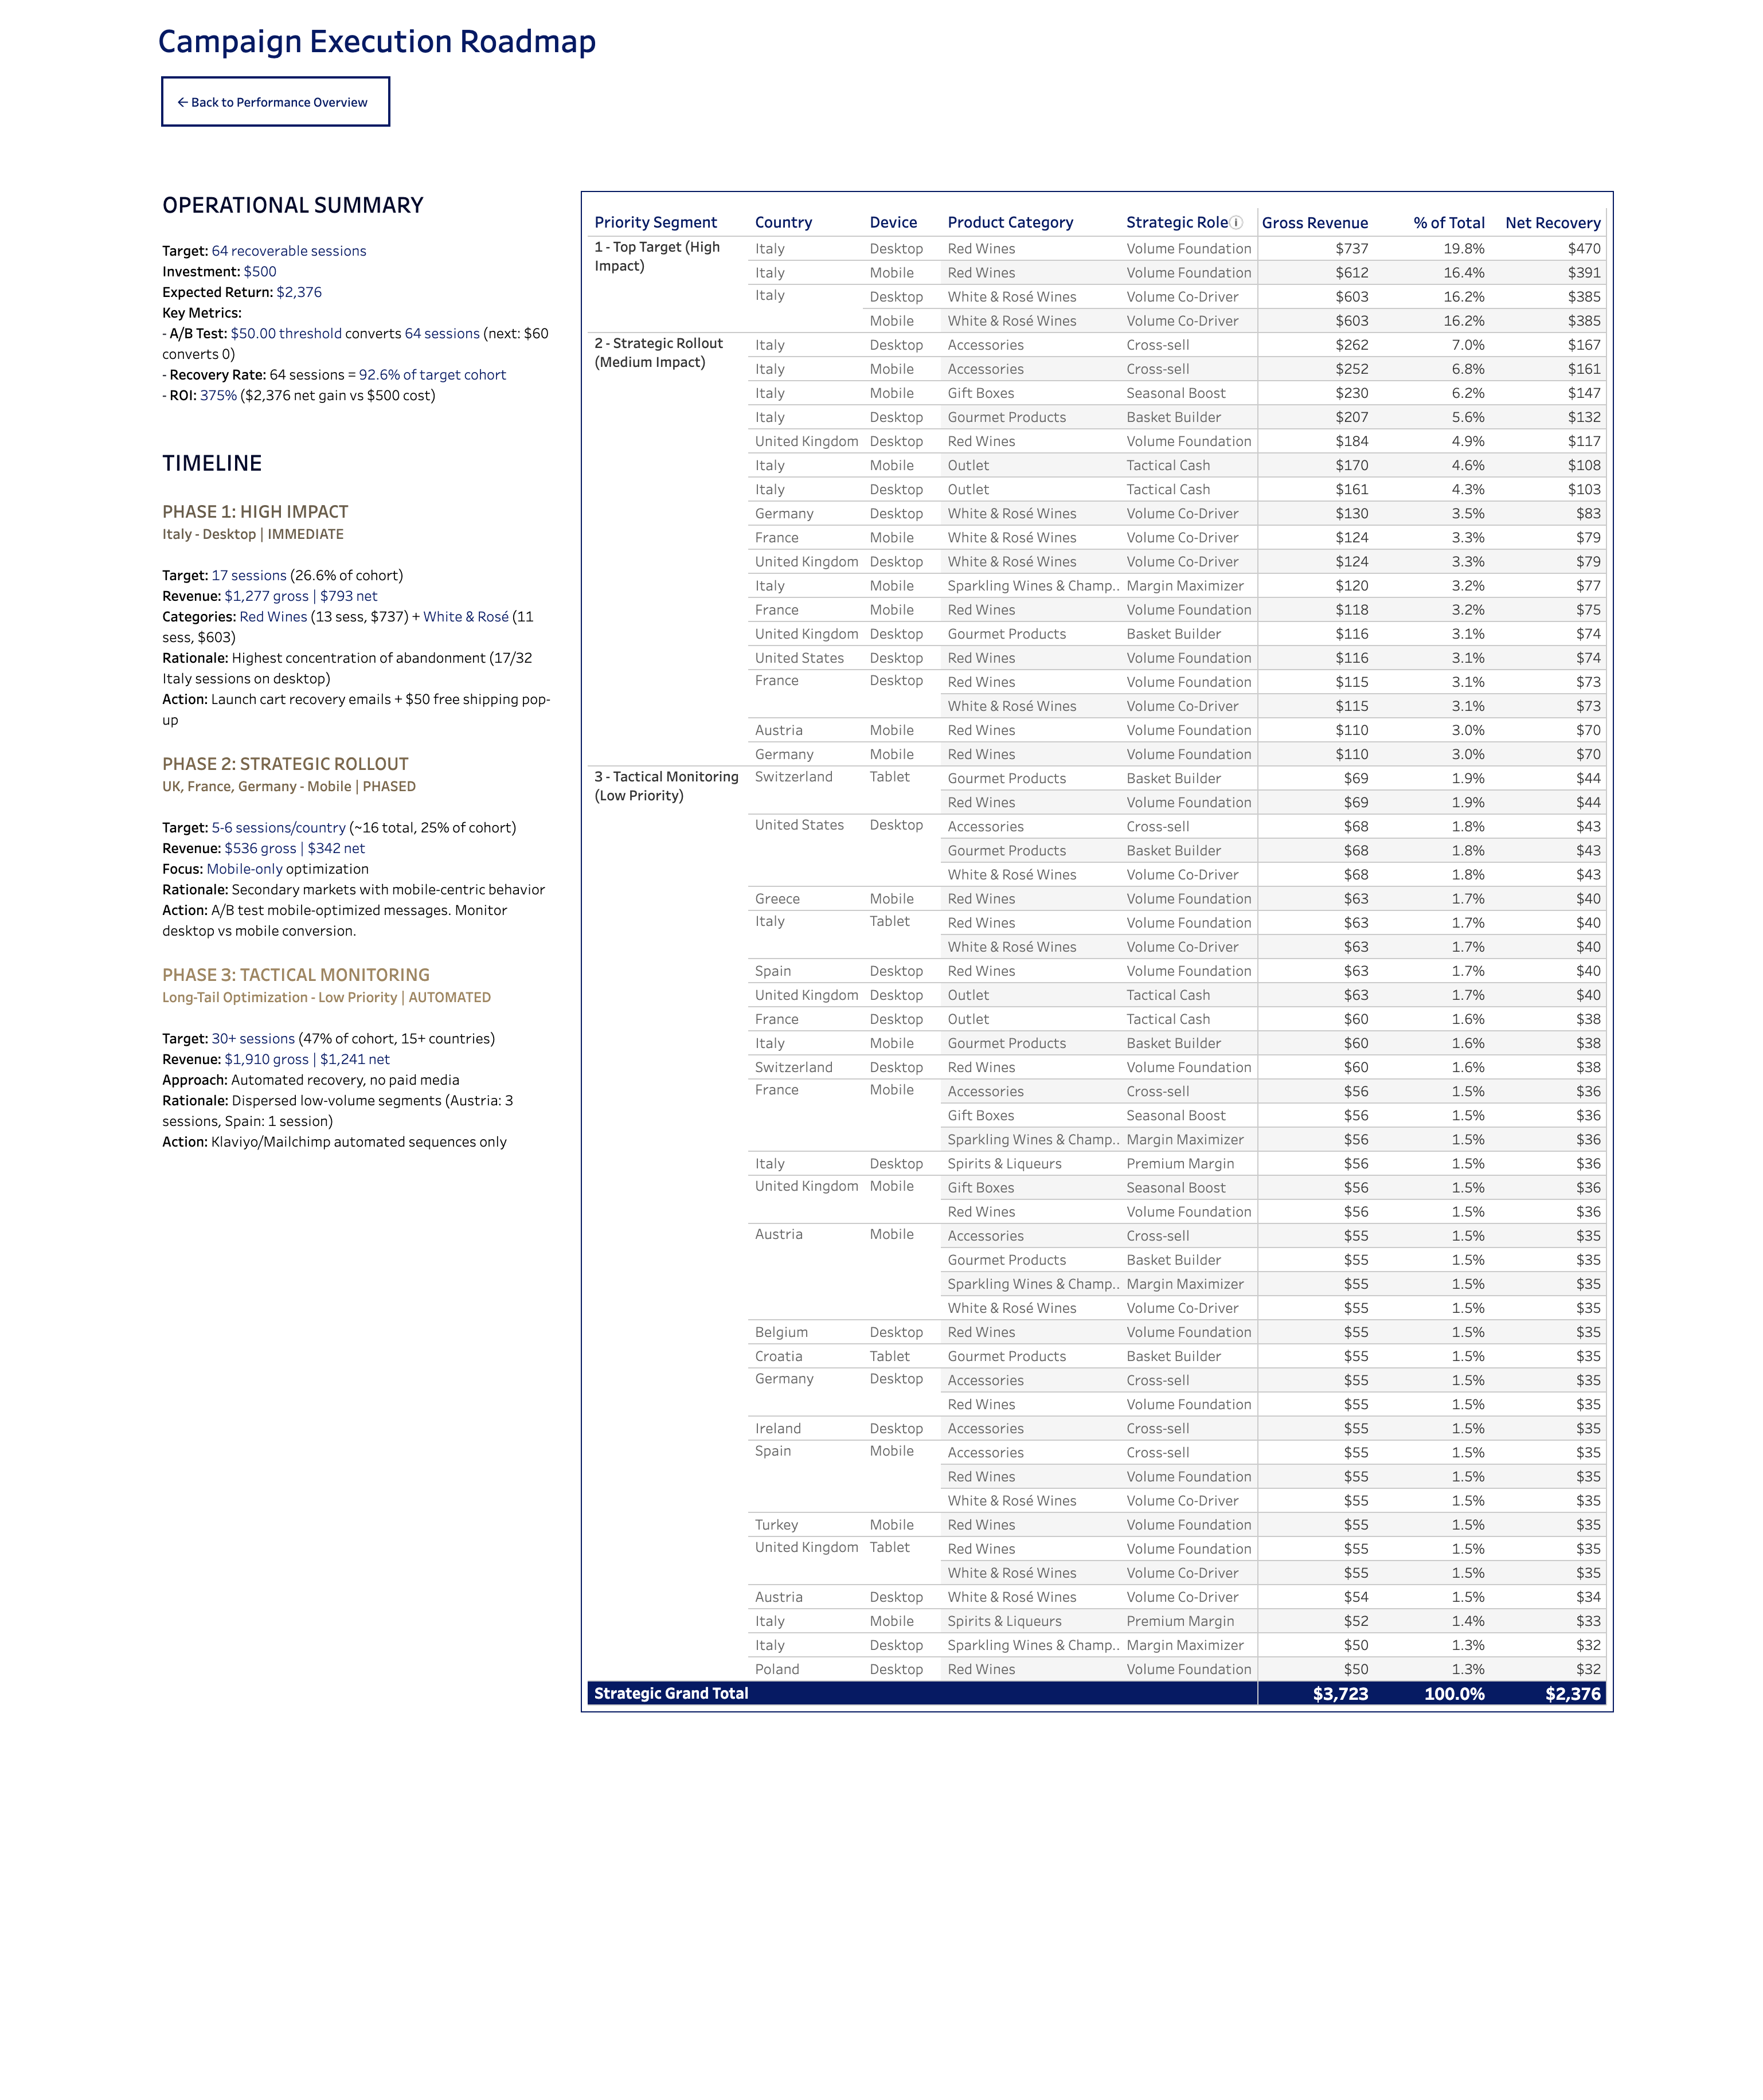

The dashboard page shown, as its layout file describes it:
{"tool":"tableau","page":{"name":"Dashboard_p2","canvas":[1300,1850],"ordinal":1},"visuals":[{"type":"text","box":[8,8,1284,147]},{"type":"worksheet","title":"Back Button","mark":"Automatic","box":[24,71,200,44]},{"type":"text","box":[8,155,375,1687]},{"type":"worksheet","title":"Table_Campaign Checklist","mark":"Automatic","rows":["Calculation_5896080947122200","Session Revenue (tannico_recoverable.csv) (copia)_5896081040","User Country (tannico_recoverable.csv) (copia)_1284119598256","Device Category (tannico_recoverable.csv) (copia)_1284119598","Tannico Category (copia)_1284119598718983","Strategic Role - Fixed (copia)_1284119598948360"],"box":[383,155,909,1347]},{"type":"worksheet","title":"Info_Strategic Role","mark":"Shape","box":[941,184,35,29]}]}

Visuals, with their boxes on the page's 1300x1850 design canvas (x1, y1, x2, y2). These are canvas units, not pixel positions in the 1763x2100 screenshot, which may show the page scaled, cropped or inside an application window:
text: bbox=[8, 8, 1292, 155]
"Back Button" worksheet: bbox=[24, 71, 224, 115]
text: bbox=[8, 155, 383, 1842]
"Table_Campaign Checklist" worksheet: bbox=[383, 155, 1292, 1502]
"Info_Strategic Role" worksheet (Shape marks): bbox=[941, 184, 976, 213]
